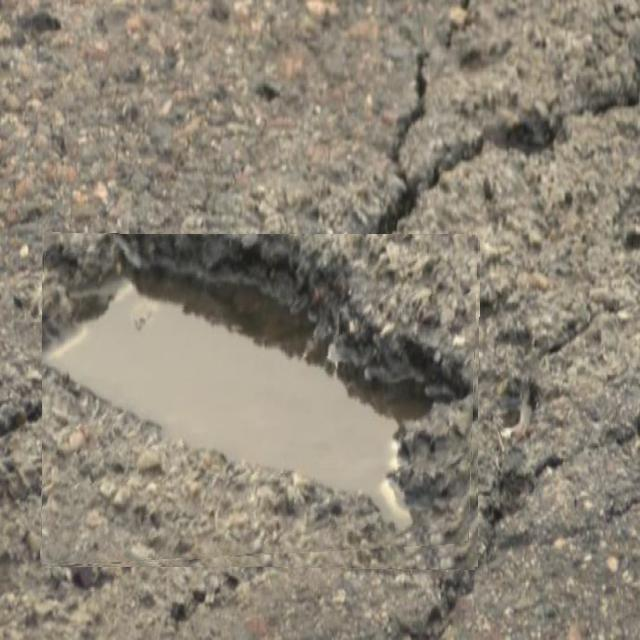Pothole: (42, 234, 479, 569)
